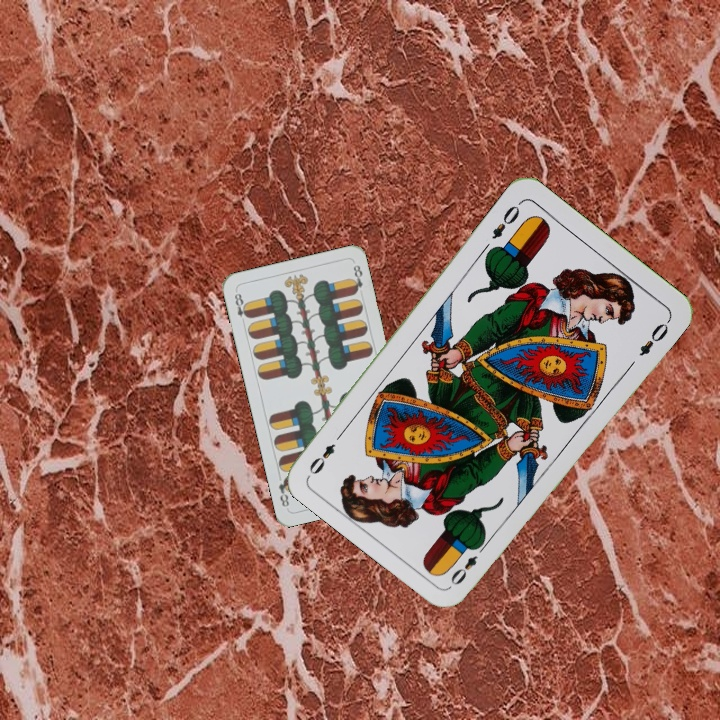E8: (230, 287, 252, 327)
EO: (446, 538, 490, 588), (487, 197, 524, 242)
